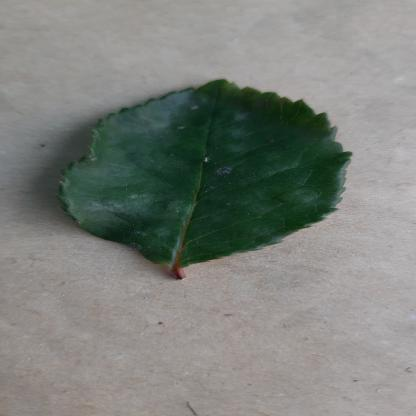powdery-mildew: (50, 78, 364, 266)
